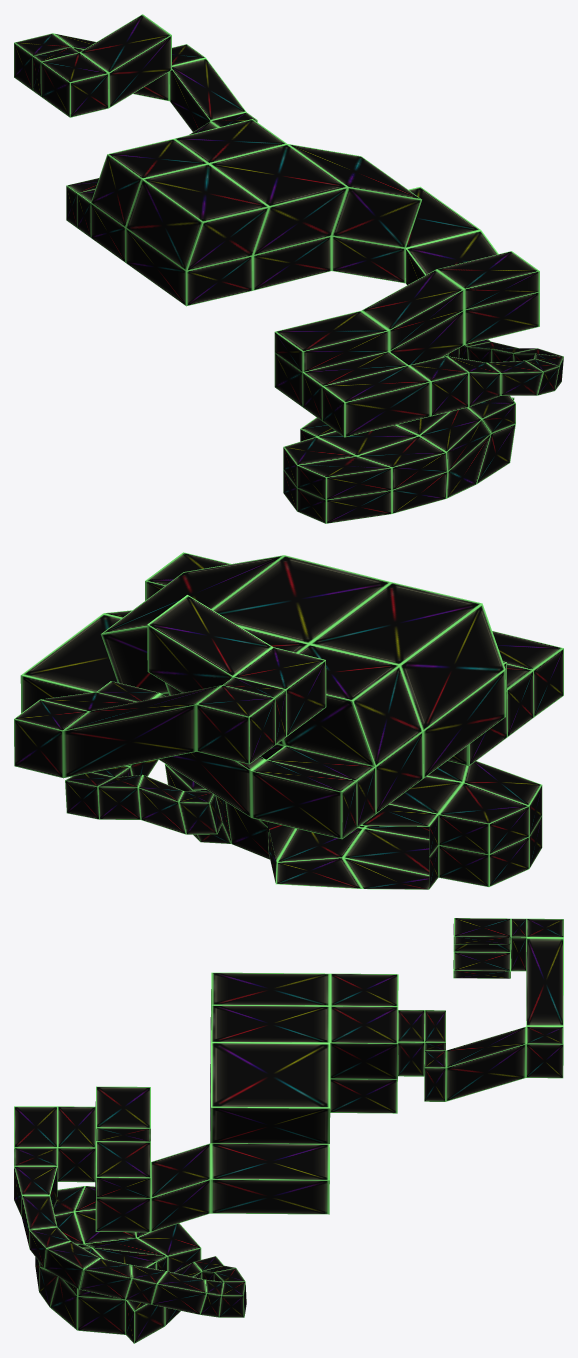
File: bunker_dungeon_se_tunnels_physics.DAE
The picture shows the model from 3 angles, top to bottom: view 1: azimuth 30°, elevation 25°; view 2: azimuth 150°, elevation 25°; view 3: azimuth 270°, elevation 25°; orthographic projection. The views are drawn at different scales.
Parts seen in each view (by area): view 1: Box02; view 2: Box02; view 3: Box02.
Boxes of the visible parts, x1,y1,x2,y2 form: Box02: (14, 14, 563, 523); Box02: (14, 552, 563, 889); Box02: (14, 918, 563, 1343).
Bounding box in the file's own units: 88.43 × 87.58 × 137.
